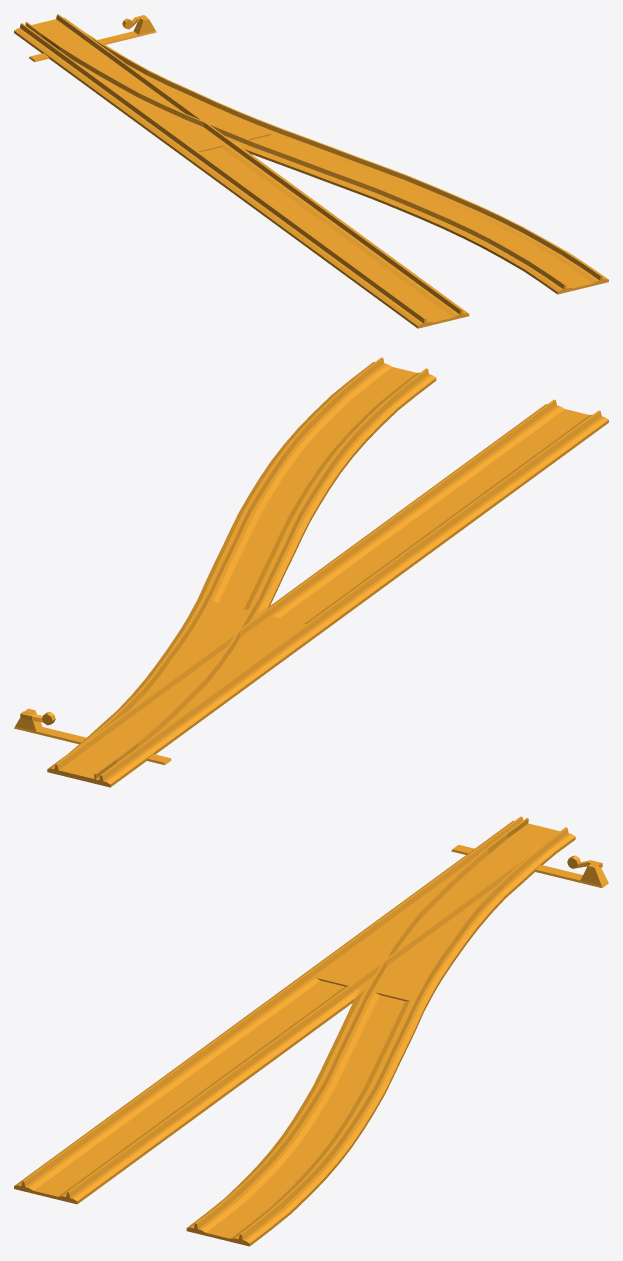
The model's file is SM_Train_Rail_Switch_Collider.fbx.
3 views of the same model, one above another, from view 1: azimuth 30°, elevation 25°; view 2: azimuth 150°, elevation 25°; view 3: azimuth 330°, elevation 25° (orthographic). The views are drawn at different scales.
Visible parts, largest first — view 1: SM_Train_Rail_Switch_Collider; view 2: SM_Train_Rail_Switch_Collider; view 3: SM_Train_Rail_Switch_Collider.
Part boxes in pixels (x1,y1,x2,y2): SM_Train_Rail_Switch_Collider: (14,14,608,328); SM_Train_Rail_Switch_Collider: (14,357,608,787); SM_Train_Rail_Switch_Collider: (14,816,608,1246).
Size of the model in its own units: 8.82 by 0.697 by 30.
